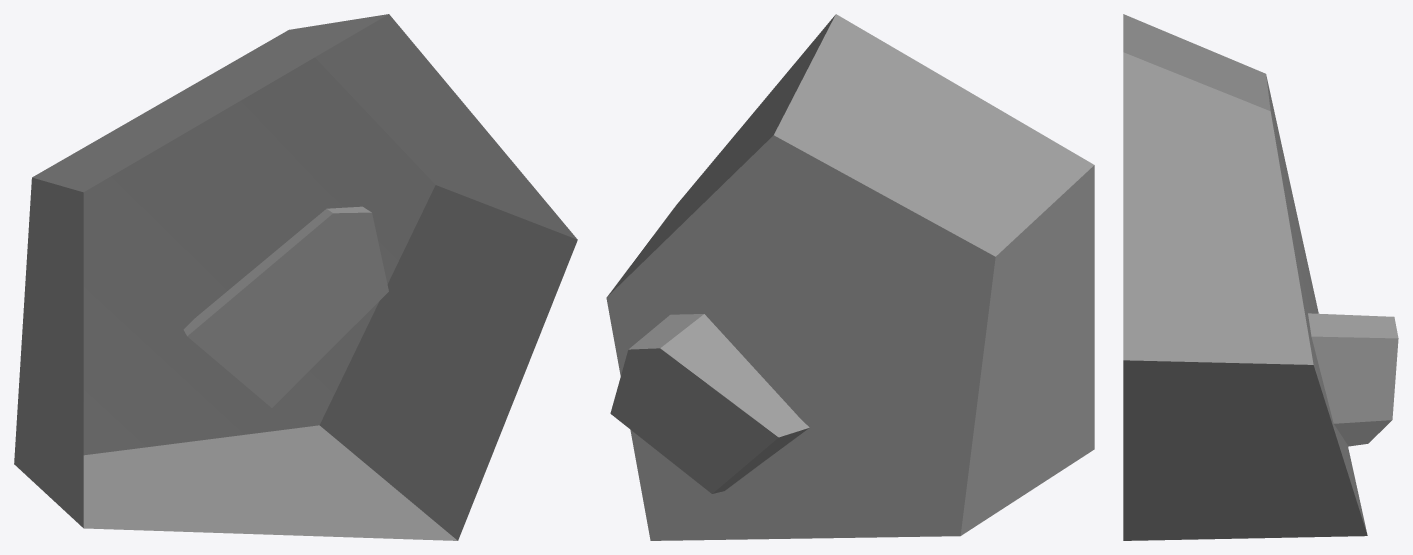
File: SM_Rock1.FBX
The picture shows the model from 3 angles, left to right: view 1: azimuth 30°, elevation 25°; view 2: azimuth 150°, elevation 25°; view 3: azimuth 270°, elevation 25°; orthographic projection. The views are drawn at different scales.
Visible parts, largest first — view 1: SM_Rock1; view 2: SM_Rock1; view 3: SM_Rock1.
Boxes of the visible parts, box(x1,y1,x2,y2) form: SM_Rock1: box(14, 14, 577, 540); SM_Rock1: box(606, 14, 1094, 540); SM_Rock1: box(1123, 14, 1398, 540).
Size of the model in its own units: 27.63 by 15.74 by 29.05.
